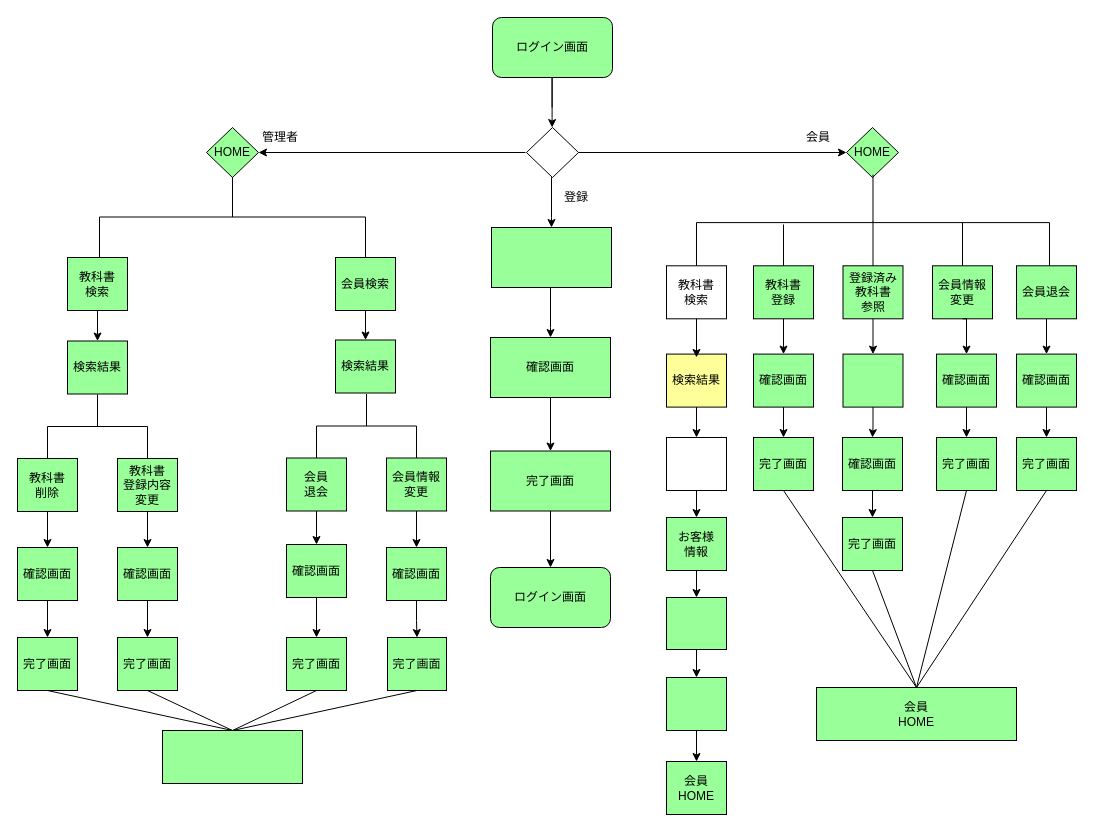
The diagram is 1094 pixels wide and 832 high, and some of its shapes have lost their labels. The shapes that lost their labels are listed below. From the top down, each one's centre as x and y in pixels, then its label:
At (x=551, y=257): "新規登録画面".
At (x=872, y=380): "教科書 変更".
At (x=696, y=463): "カートの中身".
At (x=696, y=623): "入力内容確認".
At (x=696, y=703): "注文番号表示".
At (x=232, y=757): "管理者 HOME".
